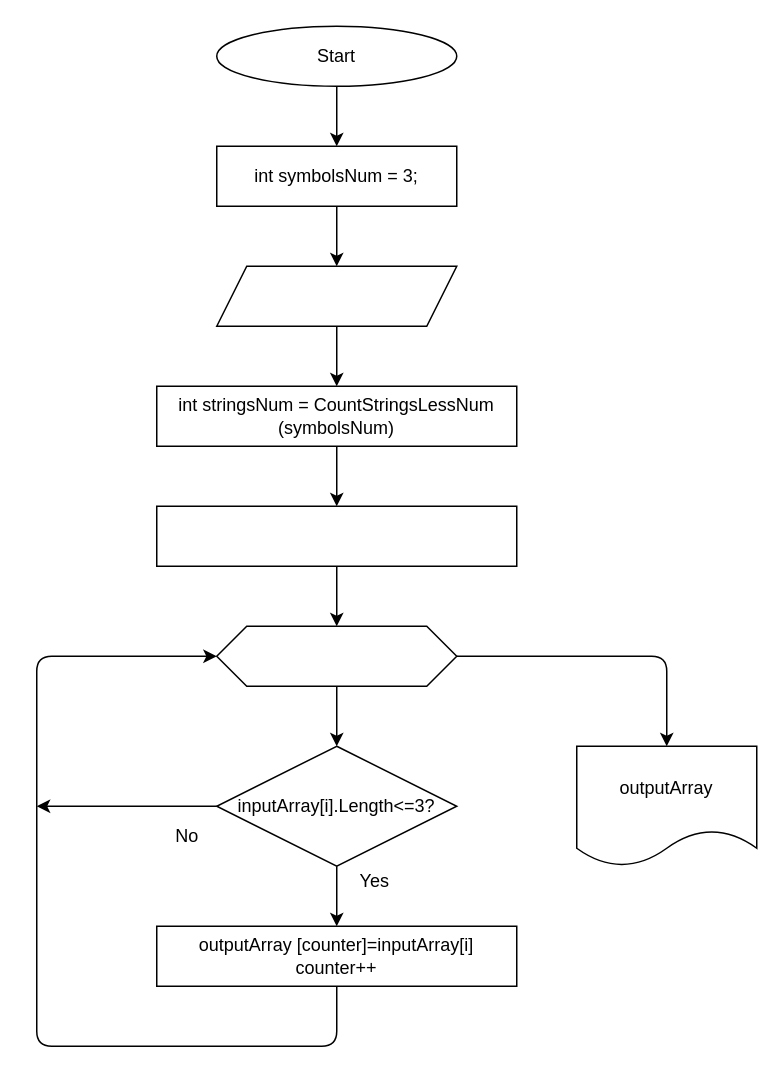
Image size: 783x1085. Some labels were removed from this diagram. The centre of each missing label's shape, as x and y in pixels:
i=0; i<inputArray.Length; i++: [336,655]
string [] inputArray: [336,295]
string outputArray [stringsNum] int counter = 0;: [336,535]
